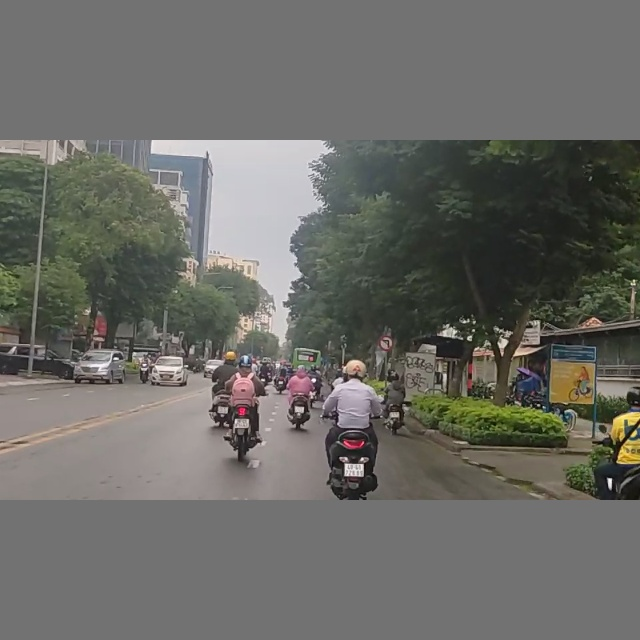P.123a: (377, 337, 394, 351)
